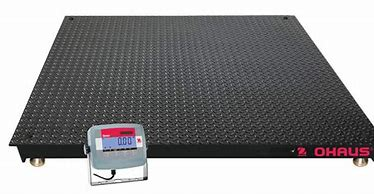Industrial Scale: (7, 14, 374, 187)
